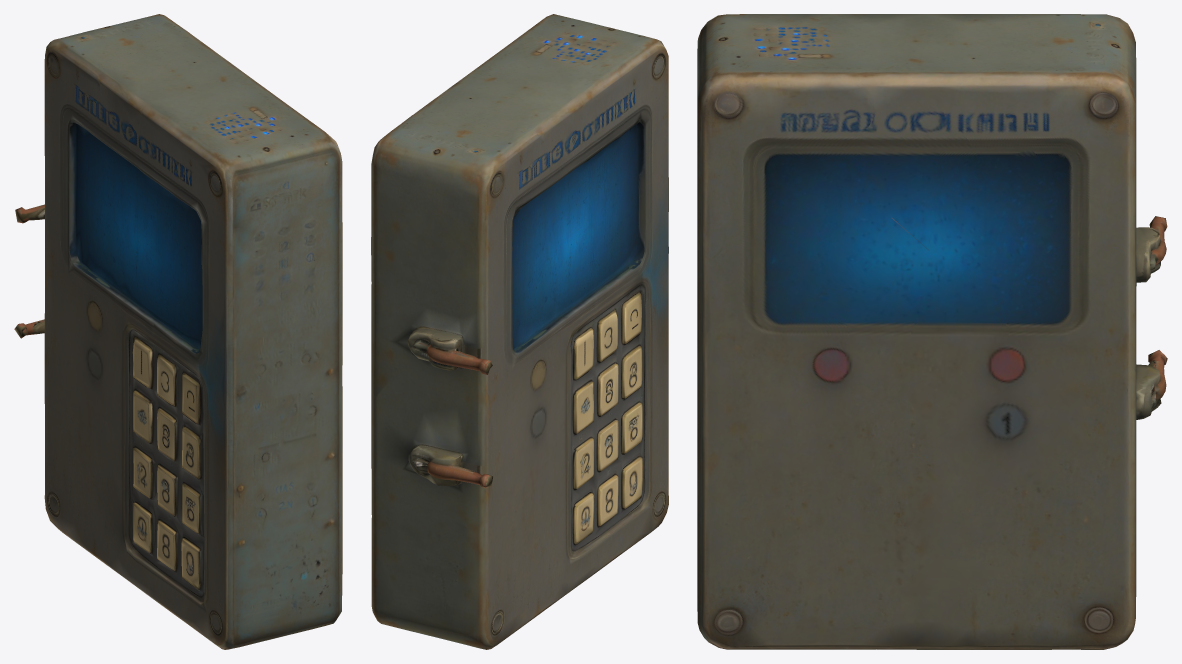
The model's file is Access_Terminal_0404141230_texture.glb.
3 views of the same model, side by side, from view 1: azimuth 30°, elevation 25°; view 2: azimuth 150°, elevation 25°; view 3: azimuth 270°, elevation 25° (orthographic). The views are drawn at different scales.
Size of the model in its own units: 0.5642 by 2 by 1.48.
Materials: 1 (1 with a texture image).
